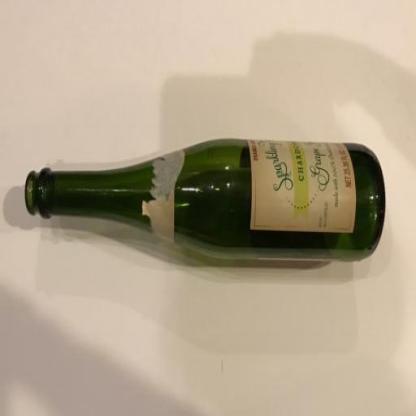trash: (24, 140, 386, 253)
